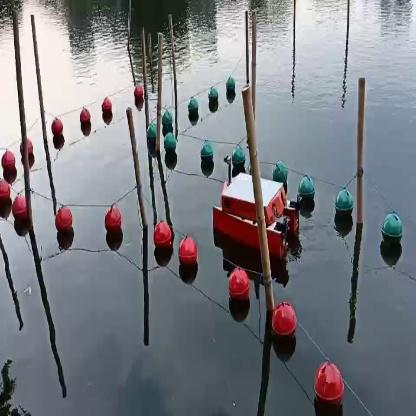green_buoy: (380, 208, 403, 252), (298, 177, 318, 207), (198, 142, 215, 172), (336, 189, 353, 217), (164, 132, 180, 160), (273, 160, 291, 184), (230, 146, 246, 170), (187, 98, 201, 122), (146, 124, 158, 150), (226, 74, 236, 96), (163, 109, 174, 129), (209, 88, 219, 108)
red_buoy: (316, 362, 345, 409), (270, 303, 298, 344), (228, 266, 250, 309), (177, 234, 199, 270), (51, 202, 74, 235), (154, 220, 170, 256), (0, 144, 16, 180), (11, 192, 27, 225), (105, 206, 122, 235), (50, 117, 63, 141), (101, 99, 112, 119), (79, 110, 90, 129), (134, 83, 142, 102), (0, 181, 5, 208)
